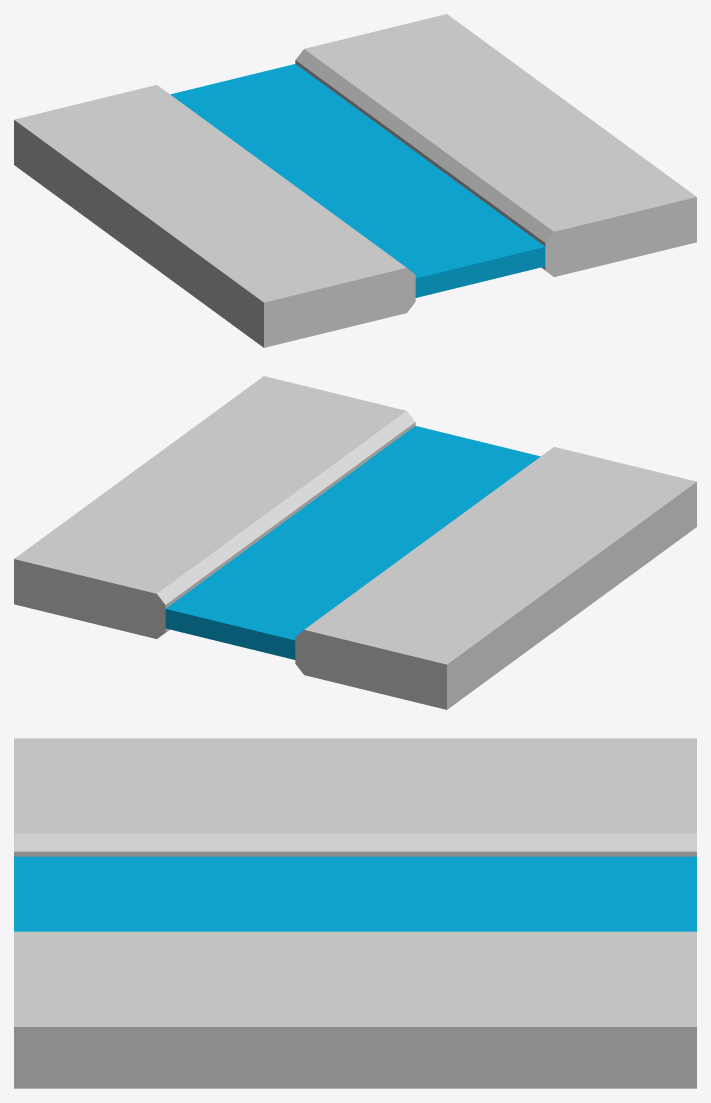
Rendered from K1_ceiling_122.fbx.
3 renders of one model, top to bottom at view 1: azimuth 30°, elevation 25°; view 2: azimuth 150°, elevation 25°; view 3: azimuth 270°, elevation 25°, orthographic. The views are drawn at different scales.
Parts seen in each view (by area): view 1: group1_polySurface42; view 2: group1_polySurface42; view 3: group1_polySurface42.
Boxes of the visible parts, bbox=[...] form: group1_polySurface42: bbox=[14, 14, 696, 347]; group1_polySurface42: bbox=[14, 376, 696, 709]; group1_polySurface42: bbox=[14, 738, 696, 1088].
Bounding box in the file's own units: 20 × 2 × 20.
